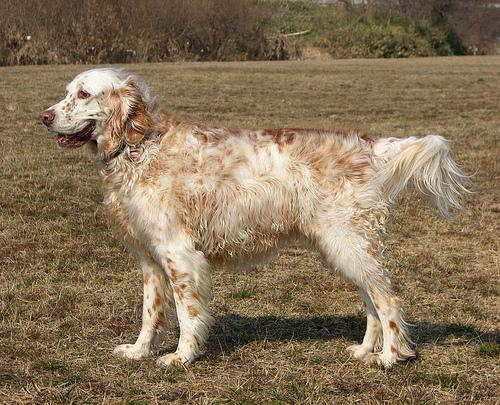dog-english_setter: (40, 66, 148, 146)
